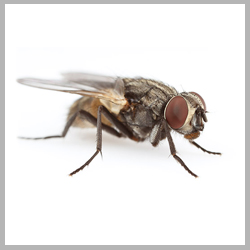house fly: (16, 69, 223, 185)
